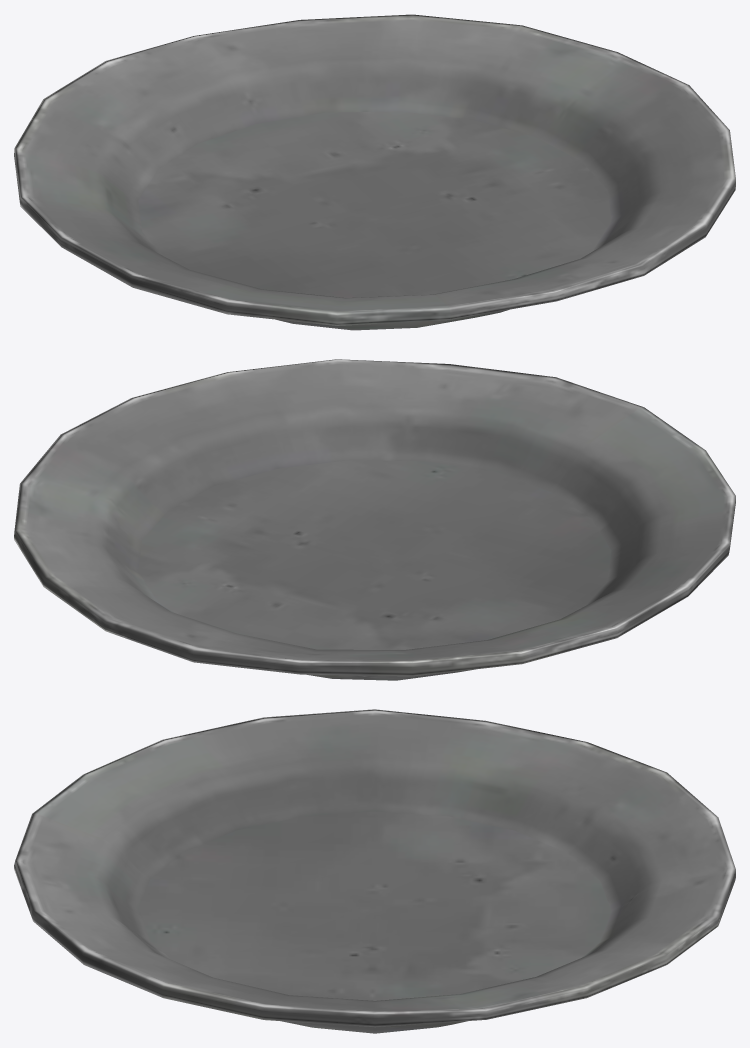
The picture shows the model from 3 angles, top to bottom: view 1: azimuth 30°, elevation 25°; view 2: azimuth 150°, elevation 25°; view 3: azimuth 270°, elevation 25°; orthographic projection.
Visible parts, largest first — view 1: SM_Cookware_CastIron_Plate_01_LOD0; view 2: SM_Cookware_CastIron_Plate_01_LOD0; view 3: SM_Cookware_CastIron_Plate_01_LOD0.
Part boxes in pixels (<box>): SM_Cookware_CastIron_Plate_01_LOD0: <box>14,14,735,330</box>; SM_Cookware_CastIron_Plate_01_LOD0: <box>14,359,735,680</box>; SM_Cookware_CastIron_Plate_01_LOD0: <box>14,709,735,1033</box>.
Bounding box in the file's own units: 0.4921 × 0.0682 × 0.4923.
1 material, 1 textured.
